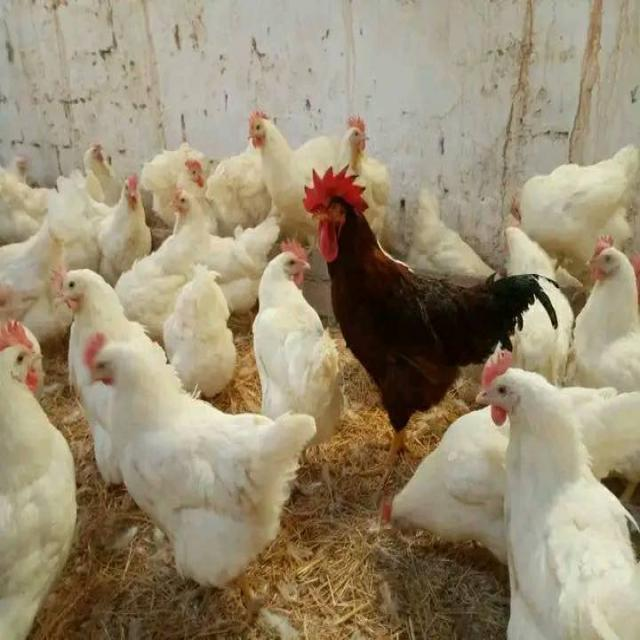Healthy: (301, 157, 554, 443), (465, 344, 633, 640)
